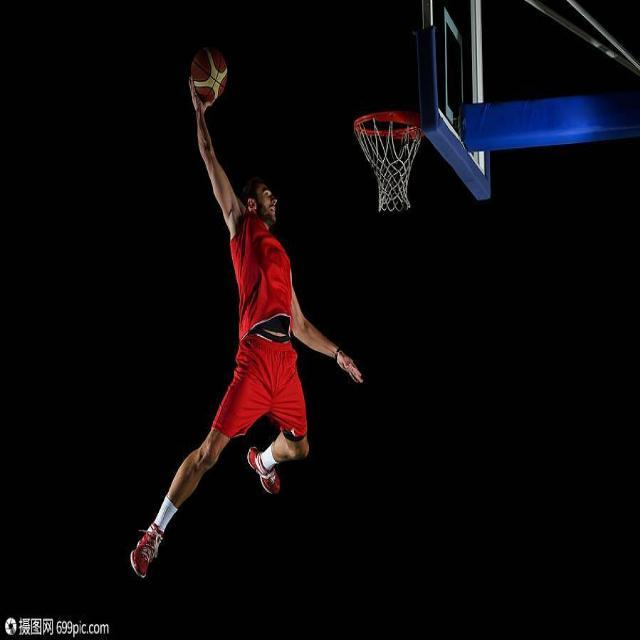rim: (192, 44, 226, 98)
